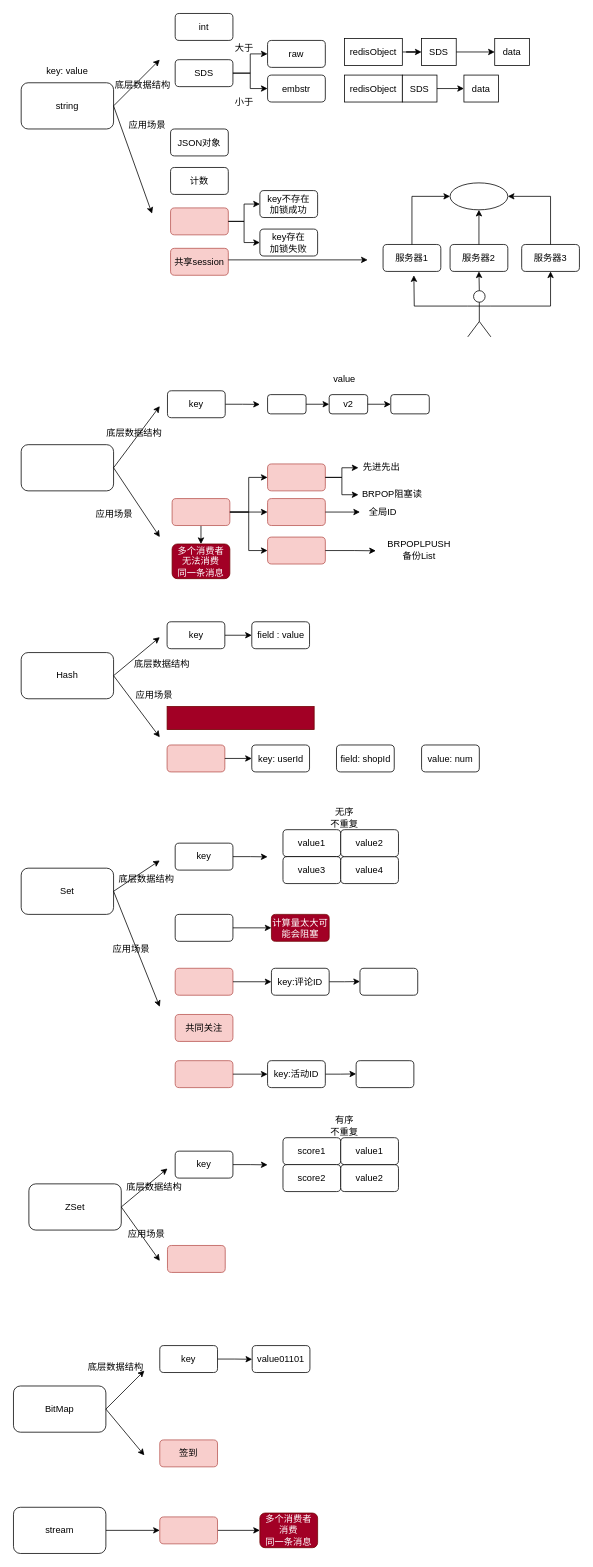
Some shapes in this 593 by 1567 pixel diagram are drawn without their labels. Each missing label, with the centre of its shape:
"Actor" goes at [479,313].
"List" goes at [67,467].
"Redis Session" goes at [478,196].
"setNx锁" goes at [199,221].
"v1" goes at [286,404].
"v3" goes at [409,404].
"value:userID" goes at [388,981].
"value:员工ID" goes at [384,1074].
"交、差、并集" goes at [203,927].
"处理重复消息" goes at [296,512].
"存储对象一般用string + JSON 对于对象常用属性可以用Hash" goes at [240,718].
"抽奖" goes at [203,1074].
"排行榜" goes at [196,1258].
"消息保序" goes at [296,477].
"消息可靠性" goes at [296,550].
"消息队列" goes at [200,512].
"消费组" goes at [188,1530].
"点赞" goes at [203,981].
"购物车" goes at [195,758].
